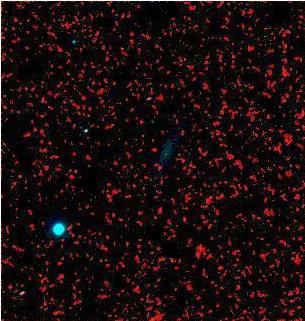star: (43, 214, 73, 244)
